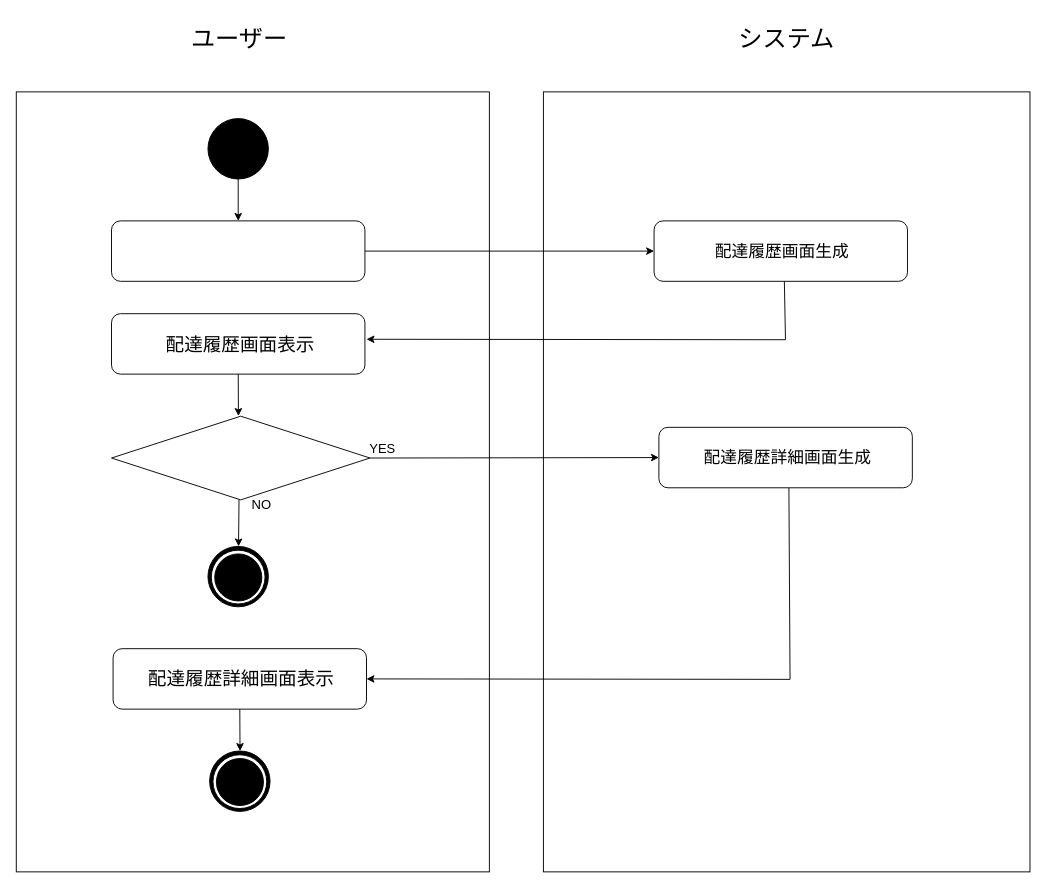
This 1046x888 diagram has some shape labels left out. The shapes that lost their labels are listed below. From the top down, each one's centre as x and y in pixels, then its label:
At (238,250): "配達履歴選択".
At (240,457): "詳細を見たい項目選択".
